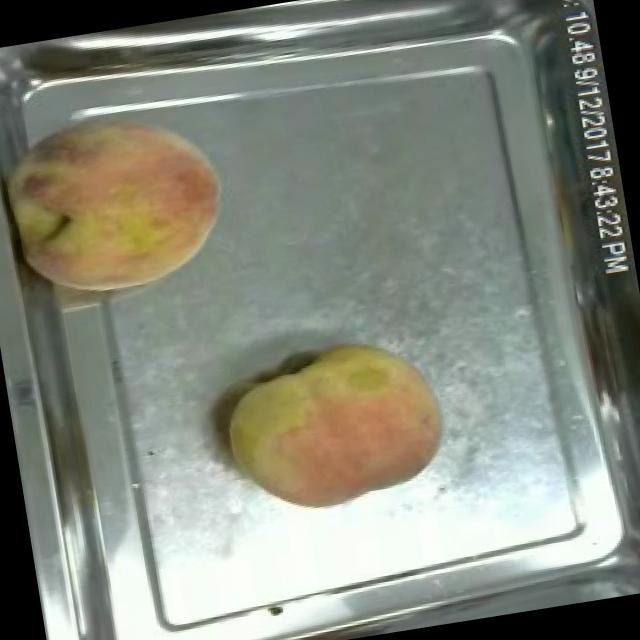Fruit: (0, 89, 245, 314), (211, 322, 461, 530)
